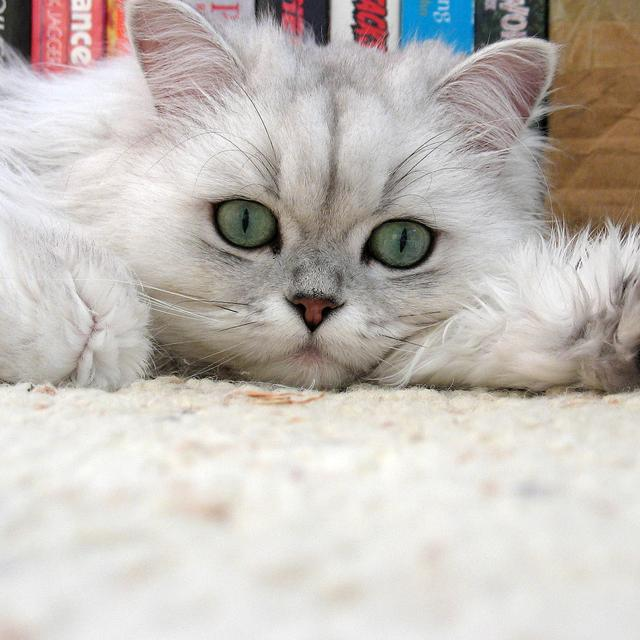animals: (139, 0, 544, 325)
